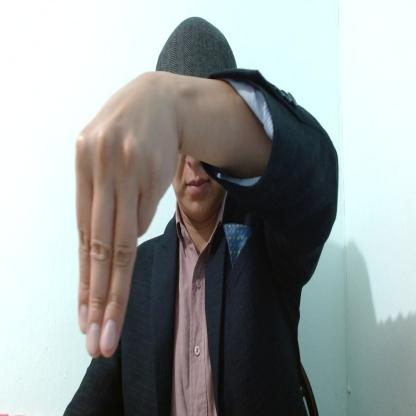M: (74, 72, 180, 358)
